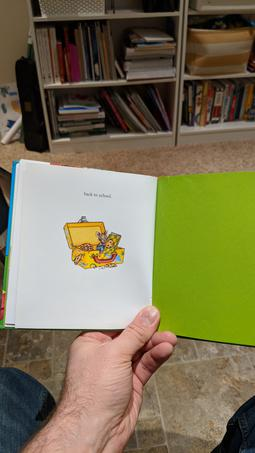text block: (79, 188, 116, 203)
